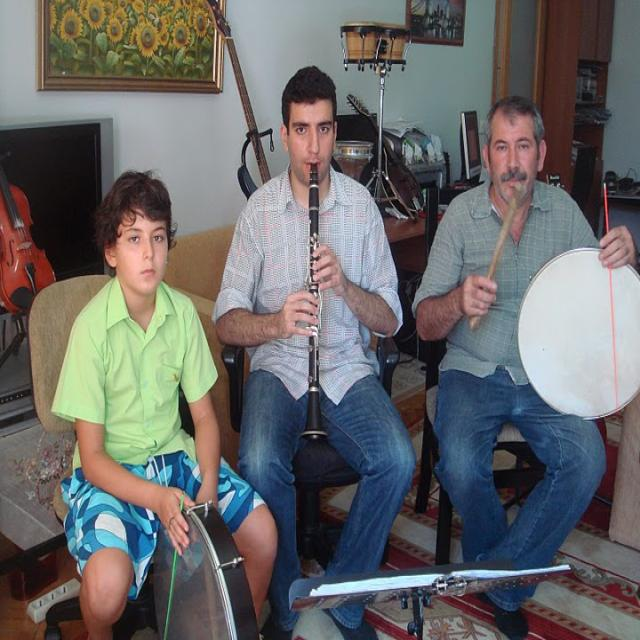clarinet: (300, 160, 332, 447)
violin: (1, 139, 58, 318)
